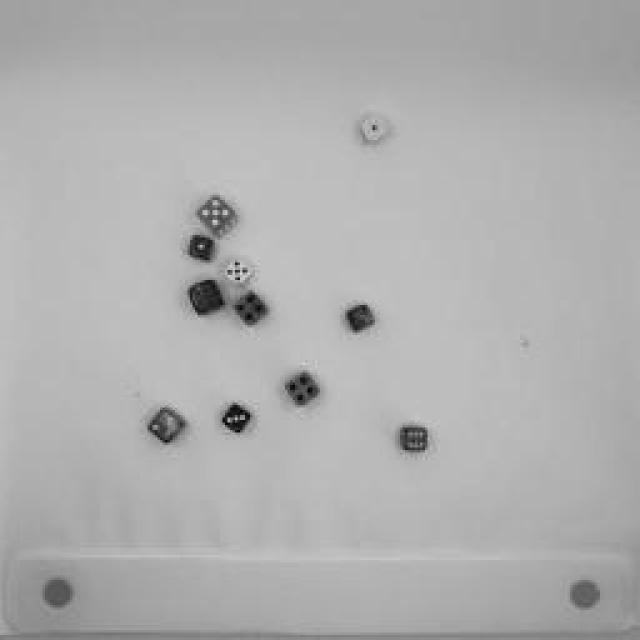dice_1: (359, 111, 386, 149), (186, 233, 216, 265)
dice_2: (145, 408, 187, 448), (344, 301, 381, 339)
dice_3: (222, 401, 252, 439)
dice_4: (230, 291, 270, 331), (186, 280, 226, 320), (285, 370, 323, 410)
dice_5: (196, 194, 239, 236), (225, 256, 255, 289)
dice_6: (394, 426, 434, 456)
